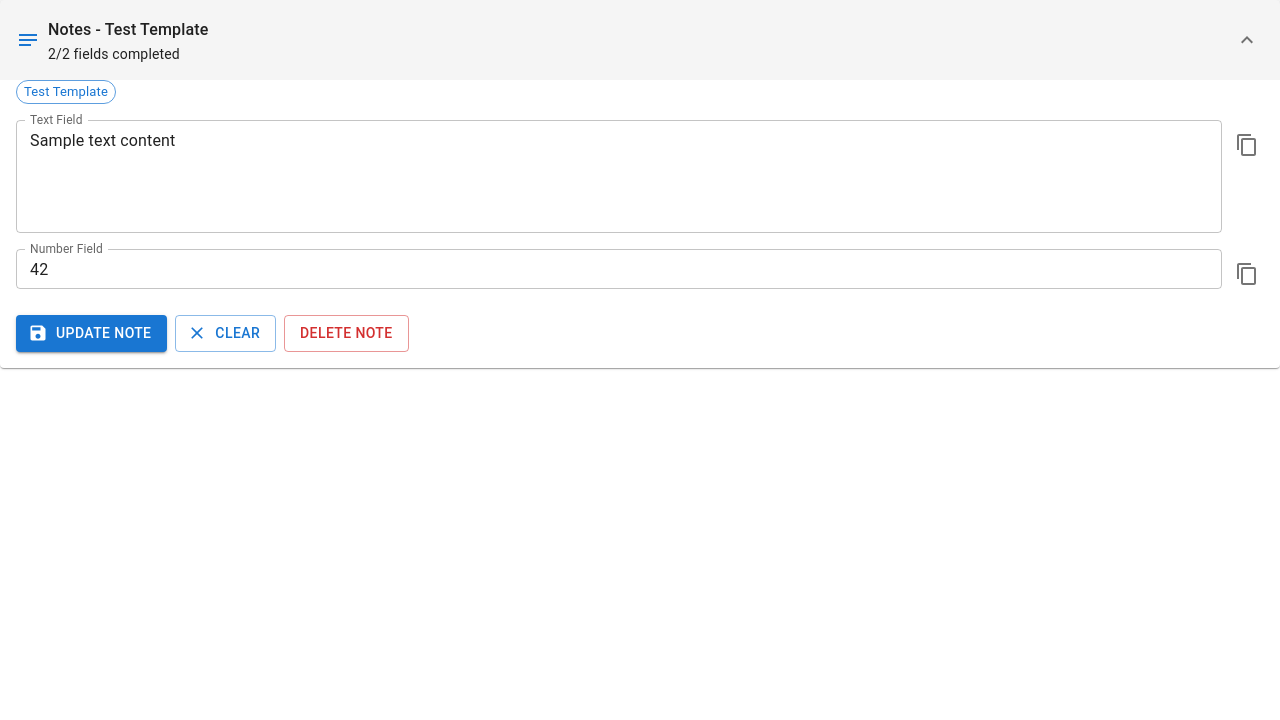
NoteEditor Copy Functionality › handles clipboard write failure gracefully
The width and height of the screenshot is (1280, 720).
Step 1. Click the button titled "Copy Text Field content" → (1247, 145), box [1230,128,1264,162]
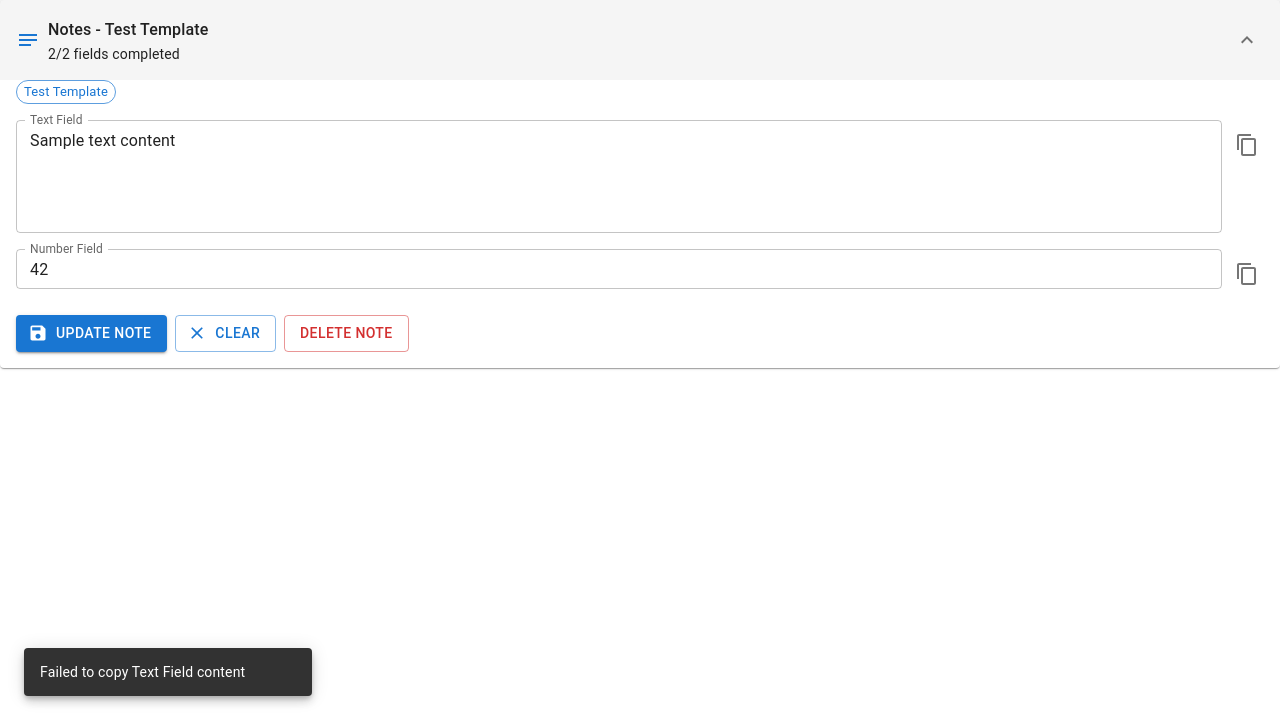
Expected: the text "Failed to copy Text Field content" is shown, [40,664,245,680]
